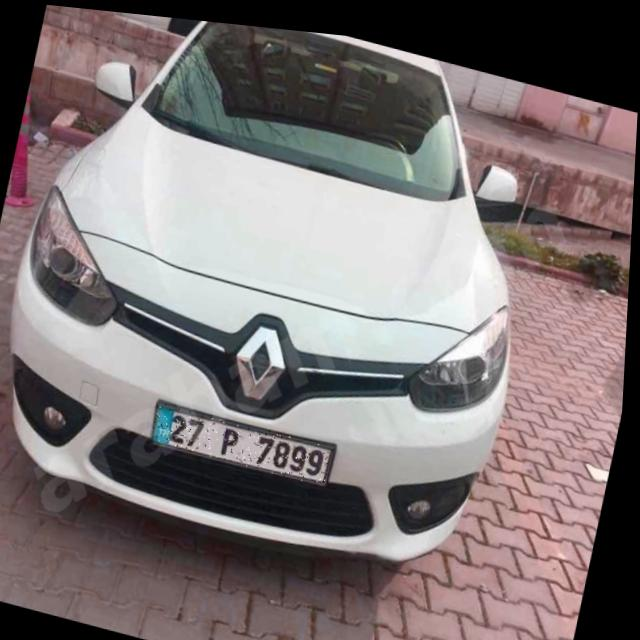license_plate: (154, 398, 338, 480)
